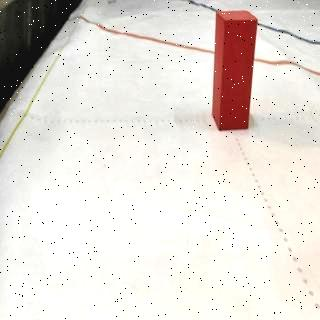redbox: (210, 9, 258, 129)
